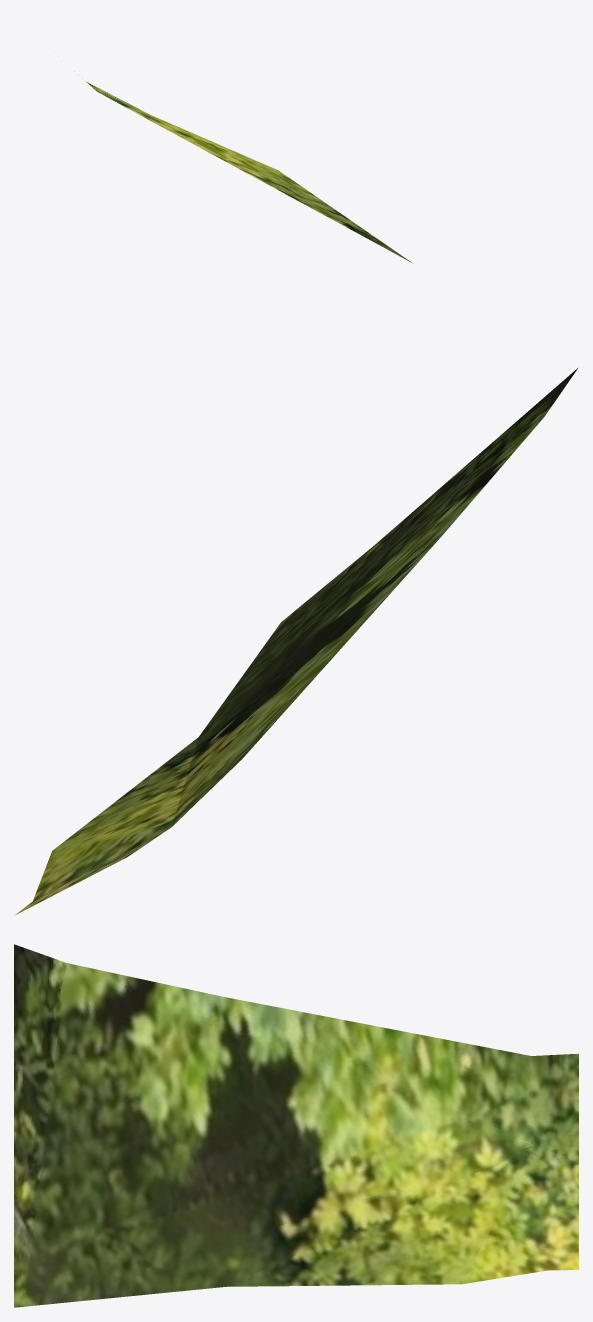
The picture shows the model from 3 angles, top to bottom: view 1: azimuth 30°, elevation 25°; view 2: azimuth 150°, elevation 25°; view 3: azimuth 270°, elevation 25°; orthographic projection. The views are drawn at different scales.
Bounding box in the file's own units: 1.38 × 1.45 × 2.95.
2 materials, 2 textured.
